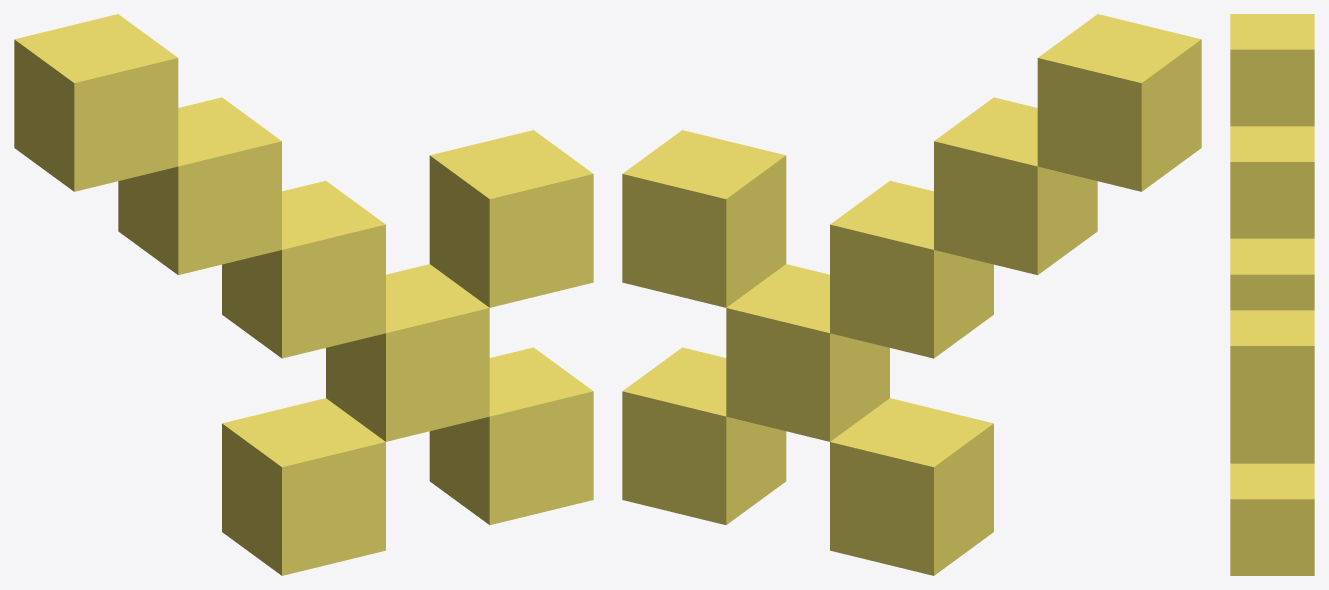
File: Knife-Yellow.vox.obj
The picture shows the model from 3 angles, left to right: view 1: azimuth 30°, elevation 25°; view 2: azimuth 150°, elevation 25°; view 3: azimuth 270°, elevation 25°; orthographic projection. The views are drawn at different scales.
Size of the model in its own units: 0.5 by 0.5 by 0.1.
1 material, 1 textured.
